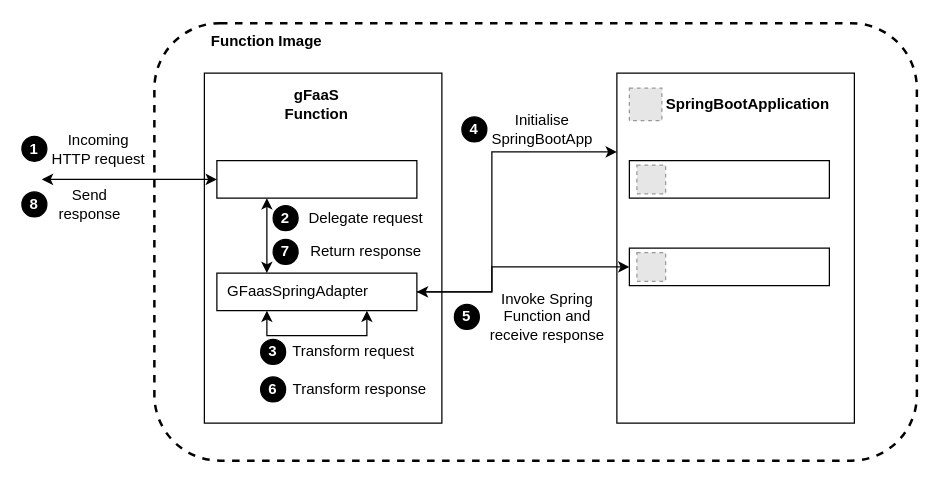
This 940x483 diagram has some shape labels left out. Grey dashed boxes stand in for pictures. Here are the shapes that lost their labels. From the top down, the box of each, then its label:
(216, 159, 417, 198): Function
(628, 159, 829, 198): /hello
(628, 247, 829, 286): /getWorld
